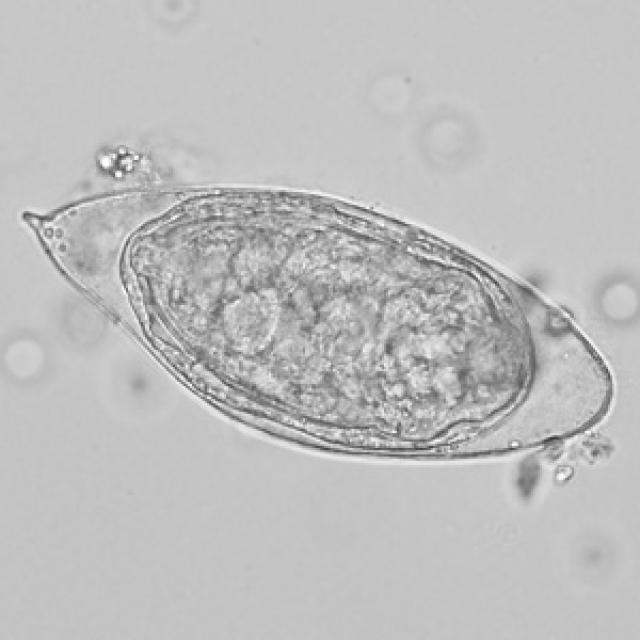Schistosoma: (11, 177, 618, 476)
